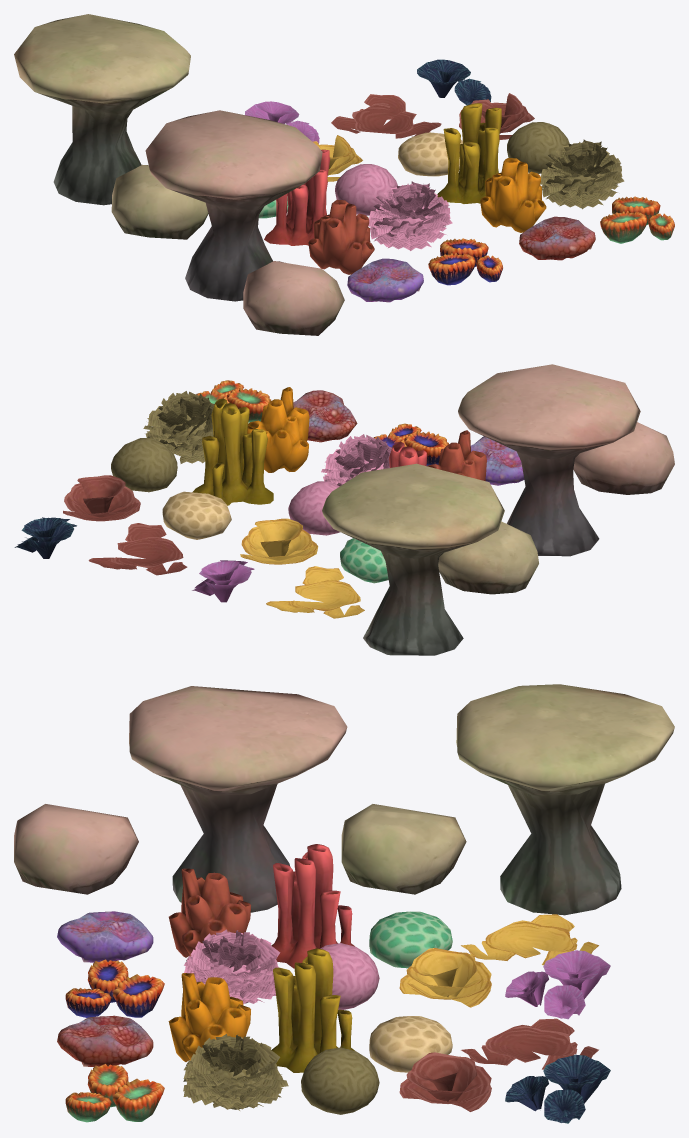
The model's file is soft_coral_set.glb.
The picture shows the model from 3 angles, top to bottom: view 1: azimuth 30°, elevation 25°; view 2: azimuth 150°, elevation 25°; view 3: azimuth 270°, elevation 25°; orthographic projection. The views are drawn at different scales.
Parts seen in each view (by area): view 1: coral01_M_coral_0, Coral02_low_M_coral_02_0, Coral02_low1_M_coral_03_0, coral19_M_coral_01_0; view 2: coral01_M_coral_0, Coral02_low1_M_coral_03_0, Coral02_low_M_coral_02_0, coral19_M_coral_01_0; view 3: coral01_M_coral_0, coral19_M_coral_01_0, Coral02_low1_M_coral_03_0, Coral02_low_M_coral_02_0.
Part boxes in pixels (<box>): coral01_M_coral_0: <box>331,59,674,260</box>; Coral02_low_M_coral_02_0: <box>145,110,344,335</box>; Coral02_low1_M_coral_03_0: <box>14,14,208,239</box>; coral19_M_coral_01_0: <box>245,101,502,302</box>; coral01_M_coral_0: <box>14,380,357,575</box>; Coral02_low1_M_coral_03_0: <box>322,463,538,655</box>; Coral02_low_M_coral_02_0: <box>458,364,674,556</box>; coral19_M_coral_01_0: <box>192,423,524,618</box>; coral01_M_coral_0: <box>57,948,610,1123</box>; coral19_M_coral_01_0: <box>57,844,610,1019</box>; Coral02_low1_M_coral_03_0: <box>341,684,674,915</box>; Coral02_low_M_coral_02_0: <box>14,686,347,912</box>.
Size of the model in its own units: 0.2581 by 0.081 by 0.2571.
4 materials, 4 textured.
